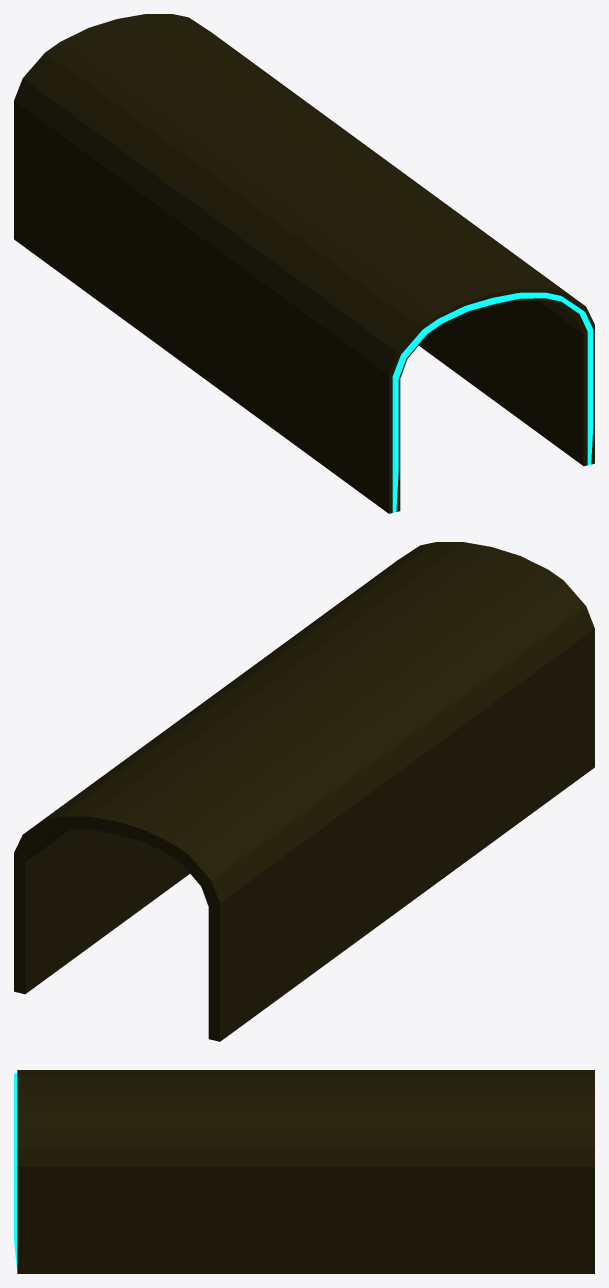
File: tunnel1.fbx
The picture shows the model from 3 angles, top to bottom: view 1: azimuth 30°, elevation 25°; view 2: azimuth 150°, elevation 25°; view 3: azimuth 270°, elevation 25°; orthographic projection. The views are drawn at different scales.
Visible parts, largest first — view 1: Cylinder; view 2: Cylinder; view 3: Cylinder.
Part boxes in pixels (x1,y1,x2,y2): Cylinder: (14,14,594,513); Cylinder: (14,542,594,1041); Cylinder: (14,1070,594,1273).
Bounding box in the file's own units: 20801 × 18839 × 65948.
